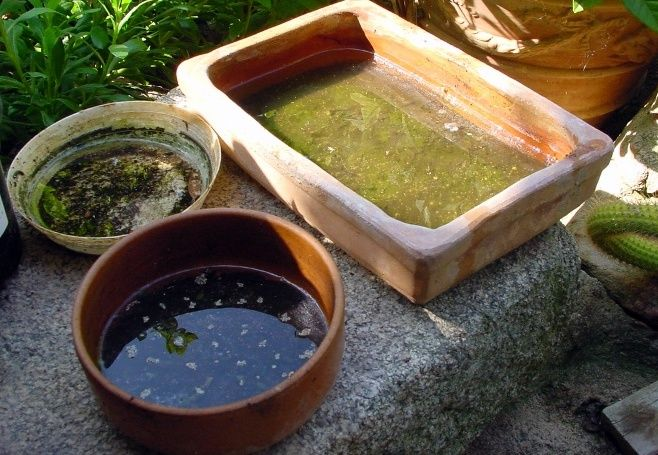container: (173, 1, 627, 307), (60, 204, 351, 451), (2, 94, 232, 245)
water: (223, 43, 559, 227), (100, 263, 331, 415), (21, 171, 78, 229)
